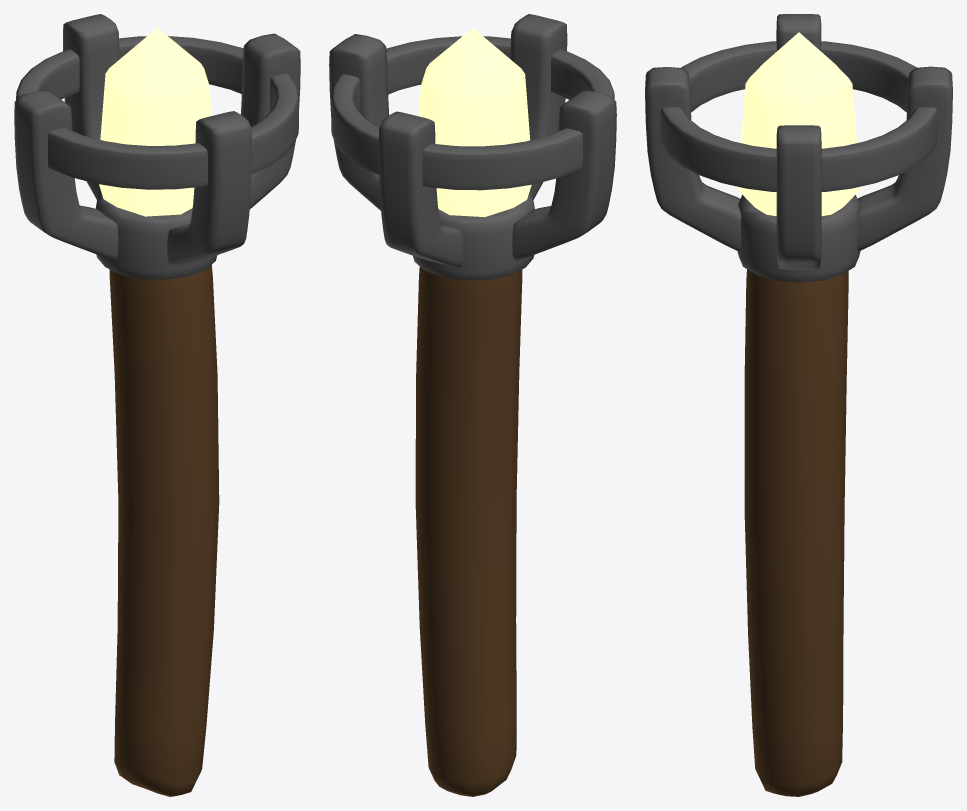
File: Mesh_Torch.glb
The picture shows the model from 3 angles, left to right: view 1: azimuth 30°, elevation 25°; view 2: azimuth 150°, elevation 25°; view 3: azimuth 270°, elevation 25°; orthographic projection.
Parts seen in each view (by area): view 1: Cylinder.003; view 2: Cylinder.003; view 3: Cylinder.003.
Part boxes in pixels (bbox=[...]): Cylinder.003: bbox=[14, 14, 300, 796]; Cylinder.003: bbox=[329, 14, 616, 796]; Cylinder.003: bbox=[645, 14, 952, 796].
Size of the model in its own units: 2.42 by 6.56 by 2.42.
